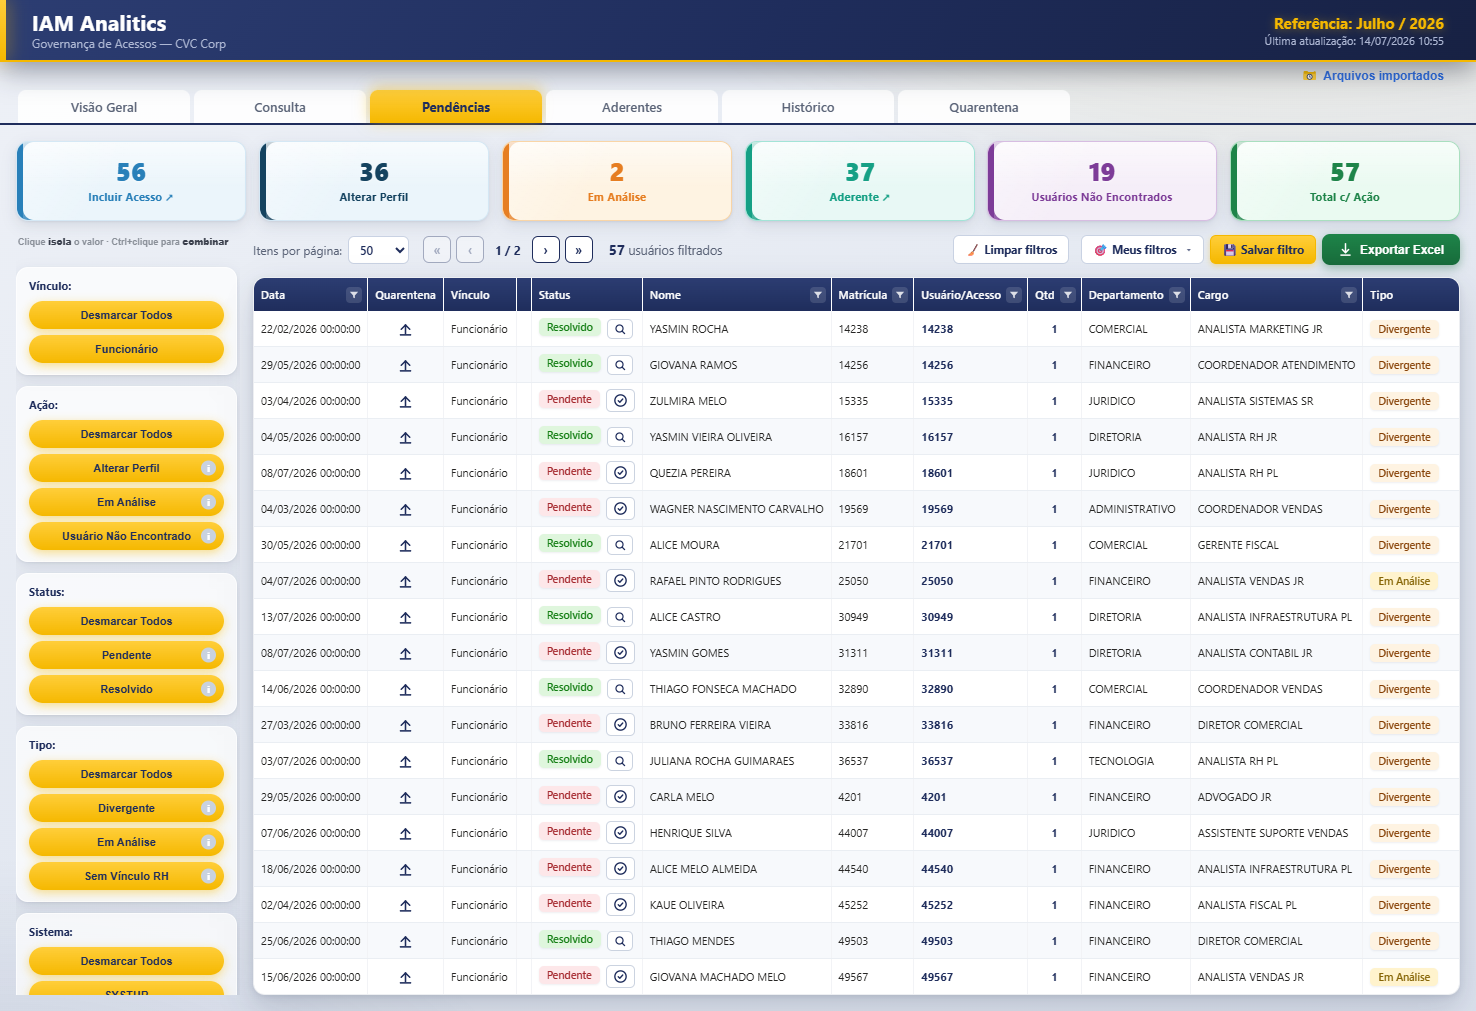

The page's visual inventory and layout, read from the dashboard file:
{"tool":"powerbi","page":{"name":"Lista de Divergências","canvas":[1440,900],"ordinal":0},"visuals":[{"type":"shape","box":[0,0,1440,70],"z":0},{"type":"shape","box":[0,0,12,70],"z":1000},{"type":"textbox","box":[17.5,7.5,400,41.2],"z":2000},{"type":"textbox","box":[18.9,46.1,400,25],"z":3000},{"type":"shape","box":[0,70,1440,40],"z":6000},{"type":"shape","box":[16,74,183,32],"z":7000},{"type":"textbox","box":[16,76,182.5,27.5],"z":8000},{"type":"shape","box":[203,74,183,32],"z":9000},{"type":"textbox","box":[203,76,183.8,27.5],"z":10000},{"type":"shape","box":[390,74,183,32],"z":11000},{"type":"textbox","box":[390,76,183,28],"z":12000},{"type":"shape","box":[577,74,183,32],"z":13000},{"type":"textbox","box":[577,76,183,28],"z":14000},{"type":"shape","box":[0,110,1440,44],"z":15000},{"type":"textbox","box":[16.2,119,167.5,31.2],"z":16000},{"type":"shape","box":[5,164,198,72],"z":17000},{"type":"cardVisual","fields":{"Data":["RH_Ativos.Total Funcionários Ativos"]},"box":[5,164,198,72],"z":18000},{"type":"shape","box":[5,163.8,12.5,70],"z":19000},{"type":"shape","box":[5,247.4,198,72],"z":20000},{"type":"cardVisual","fields":{"Data":["SYSTUR.Total Usuários SYSTUR"]},"box":[5,247.3,197.5,72.5],"z":21000},{"type":"shape","box":[5,247.1,12.5,70],"z":22000},{"type":"shape","box":[5,332.2,198,72],"z":23000},{"type":"cardVisual","fields":{"Data":["Divergencias.Perfis Inválidos"]},"box":[5,330.9,197.5,72.5],"z":24000},{"type":"shape","box":[5,332,12.5,70],"z":25000},{"type":"shape","box":[3.8,418.5,198,72],"z":26000},{"type":"cardVisual","fields":{"Data":["Divergencias.Sem Vínculo RH"]},"box":[5,416.3,197.5,72.5],"z":27000},{"type":"shape","box":[3.8,418.2,12.5,70],"z":28000},{"type":"shape","box":[3.8,506,198,72],"z":29000},{"type":"cardVisual","fields":{"Data":["Divergencias.Sem Vínculo RH"]},"box":[3.8,503.8,197.5,72.5],"z":30000},{"type":"shape","box":[3.8,505.8,12.5,70],"z":31000},{"type":"shape","box":[6.2,590,197.5,310],"z":32000},{"type":"clusteredBarChart","title":"Por departamento","fields":{"Category":["RH_Ativos.departamento"],"Y":["Divergencias.Total Divergências"]},"box":[0,601.2,198.8,298.8],"z":33000},{"type":"shape","box":[216.2,153.8,1217.5,746.2],"z":34000},{"type":"pivotTable","fields":{"Rows":["Divergencias.usuario","Divergencias.tipo"],"Values":["Divergencias.Qtd Divergencias","Min(Divergencias.nome_usuario)","Min(Divergencias.matricula)","Min(Divergencias.Departamento)","Min(Divergencias.Cargo)","Min(Divergencias.tipo)","Min(Divergencias.perfil_encontrado)","Min(Divergencias.perfil_esperado)","Min(Divergencias.data_identificacao)","Min(Divergencias.Status)"]},"box":[216.2,164.7,1214.7,735.3],"z":35000},{"type":"listSlicer","fields":{"Values":["Divergencias.sistema"]},"box":[168.8,103.8,173.8,60],"z":37000},{"type":"cardVisual","fields":{"Data":["Divergencias.Referência"]},"box":[1089.7,0,330.9,36],"z":37001},{"type":"cardVisual","fields":{"Data":["Divergencias.Última Atualização"]},"box":[1108.8,23.5,330.9,42.6],"z":37002}]}

Visuals, with their boxes on the page's 1440x900 design canvas (x1, y1, x2, y2). These are canvas units, not pixel positions in the 1476x1011 screenshot, which may show the page scaled, cropped or inside an application window:
shape: {"left": 0, "top": 0, "right": 1440, "bottom": 70}
shape: {"left": 0, "top": 0, "right": 12, "bottom": 70}
textbox: {"left": 18, "top": 8, "right": 418, "bottom": 49}
textbox: {"left": 19, "top": 46, "right": 419, "bottom": 71}
shape: {"left": 0, "top": 70, "right": 1440, "bottom": 110}
shape: {"left": 16, "top": 74, "right": 199, "bottom": 106}
textbox: {"left": 16, "top": 76, "right": 198, "bottom": 104}
shape: {"left": 203, "top": 74, "right": 386, "bottom": 106}
textbox: {"left": 203, "top": 76, "right": 387, "bottom": 104}
shape: {"left": 390, "top": 74, "right": 573, "bottom": 106}
textbox: {"left": 390, "top": 76, "right": 573, "bottom": 104}
shape: {"left": 577, "top": 74, "right": 760, "bottom": 106}
textbox: {"left": 577, "top": 76, "right": 760, "bottom": 104}
shape: {"left": 0, "top": 110, "right": 1440, "bottom": 154}
textbox: {"left": 16, "top": 119, "right": 184, "bottom": 150}
shape: {"left": 5, "top": 164, "right": 203, "bottom": 236}
cardVisual - RH_Ativos.Total Funcionários Ativos: {"left": 5, "top": 164, "right": 203, "bottom": 236}
shape: {"left": 5, "top": 164, "right": 18, "bottom": 234}
shape: {"left": 5, "top": 247, "right": 203, "bottom": 319}
cardVisual - SYSTUR.Total Usuários SYSTUR: {"left": 5, "top": 247, "right": 202, "bottom": 320}
shape: {"left": 5, "top": 247, "right": 18, "bottom": 317}
shape: {"left": 5, "top": 332, "right": 203, "bottom": 404}
cardVisual - Divergencias.Perfis Inválidos: {"left": 5, "top": 331, "right": 202, "bottom": 403}
shape: {"left": 5, "top": 332, "right": 18, "bottom": 402}
shape: {"left": 4, "top": 418, "right": 202, "bottom": 490}
cardVisual - Divergencias.Sem Vínculo RH: {"left": 5, "top": 416, "right": 202, "bottom": 489}
shape: {"left": 4, "top": 418, "right": 16, "bottom": 488}
shape: {"left": 4, "top": 506, "right": 202, "bottom": 578}
cardVisual - Divergencias.Sem Vínculo RH: {"left": 4, "top": 504, "right": 201, "bottom": 576}
shape: {"left": 4, "top": 506, "right": 16, "bottom": 576}
shape: {"left": 6, "top": 590, "right": 204, "bottom": 900}
"Por departamento" clusteredBarChart: {"left": 0, "top": 601, "right": 199, "bottom": 900}
shape: {"left": 216, "top": 154, "right": 1434, "bottom": 900}
pivotTable - Divergencias.usuario x Divergencias.tipo: {"left": 216, "top": 165, "right": 1431, "bottom": 900}
listSlicer - Divergencias.sistema: {"left": 169, "top": 104, "right": 343, "bottom": 164}
cardVisual - Divergencias.Referência: {"left": 1090, "top": 0, "right": 1421, "bottom": 36}
cardVisual - Divergencias.Última Atualização: {"left": 1109, "top": 24, "right": 1440, "bottom": 66}
